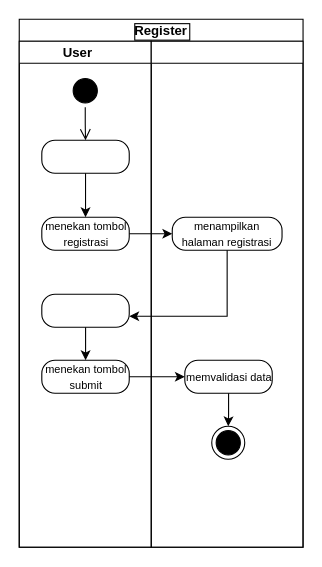
The diagram is 322 pixels wide and 567 high, and some of its shapes have lost their labels. The box of each missing label's shape, as (x1, y1, x2, y2) in pixels:
mengakses sistem: (41, 139, 129, 173)
mengisi form registrasi: (41, 293, 129, 327)
System: (150, 40, 303, 547)
